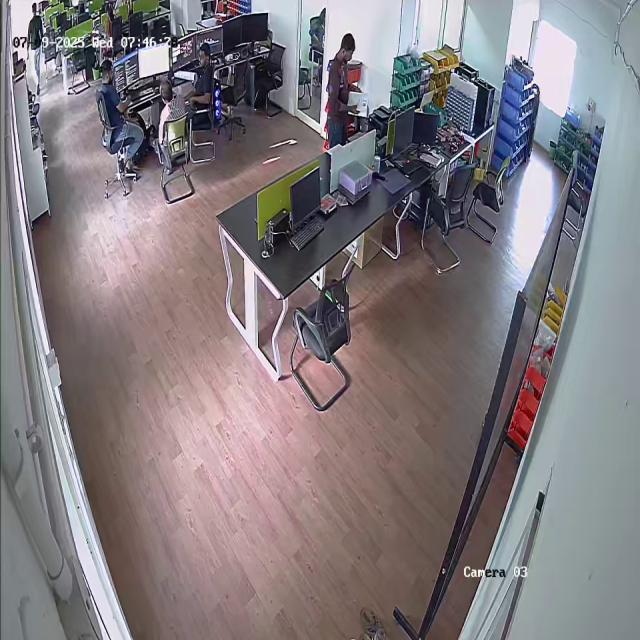person: (99, 58, 142, 182), (322, 32, 357, 144), (148, 80, 187, 142), (185, 41, 217, 114), (27, 3, 45, 96)
